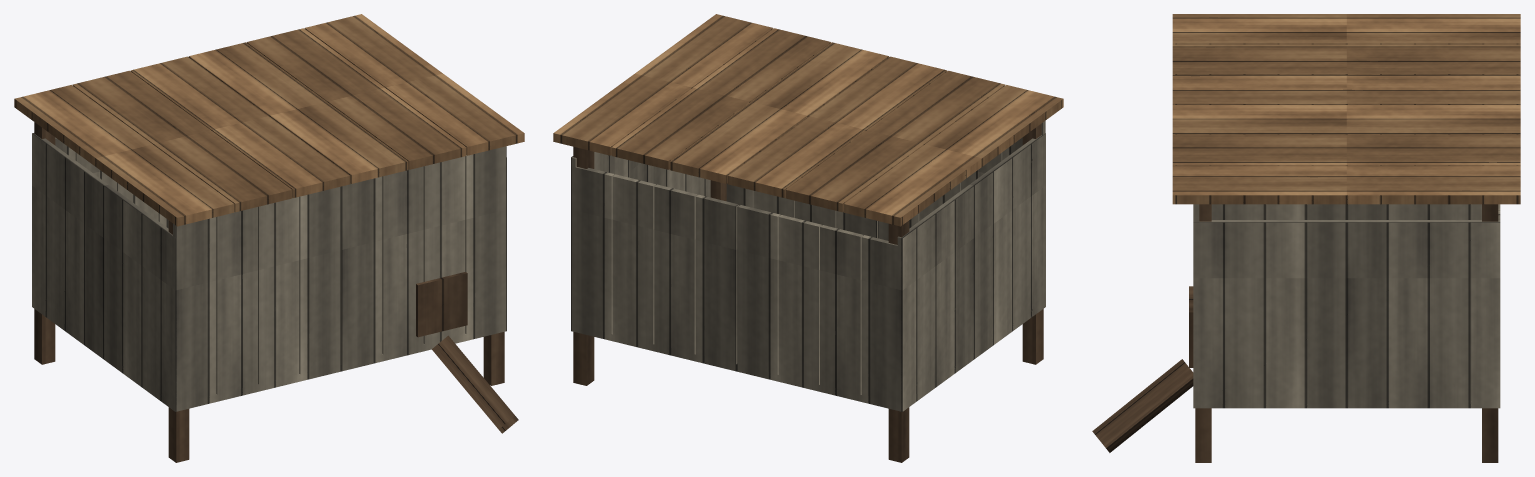
Rendered from Coop_1.gltf.
The picture shows the model from 3 angles, left to right: view 1: azimuth 30°, elevation 25°; view 2: azimuth 150°, elevation 25°; view 3: azimuth 270°, elevation 25°; orthographic projection. The views are drawn at different scales.
Visible parts, largest first — view 1: Coop_1; view 2: Coop_1; view 3: Coop_1.
Part boxes in pixels (x1,y1,x2,y2): Coop_1: (14, 14, 524, 462); Coop_1: (553, 14, 1063, 462); Coop_1: (1092, 14, 1520, 462).
Size of the model in its own units: 2.09 by 1.54 by 2.09.
Materials: 4 (4 with a texture image).
